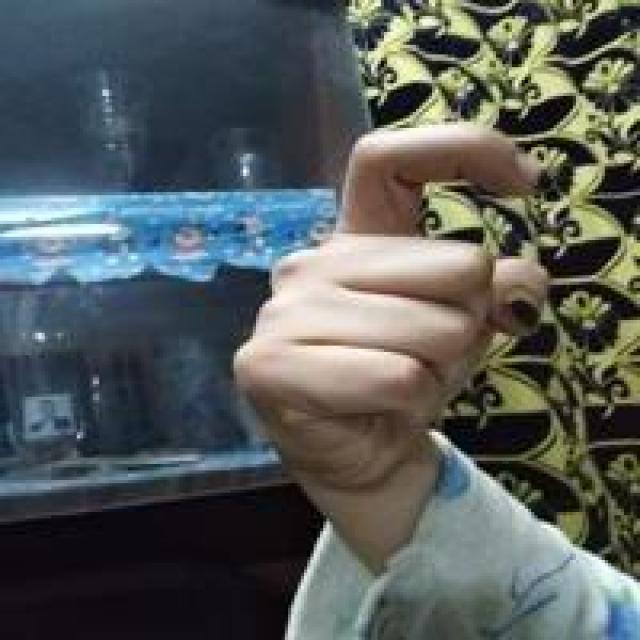X: (222, 115, 556, 502)
